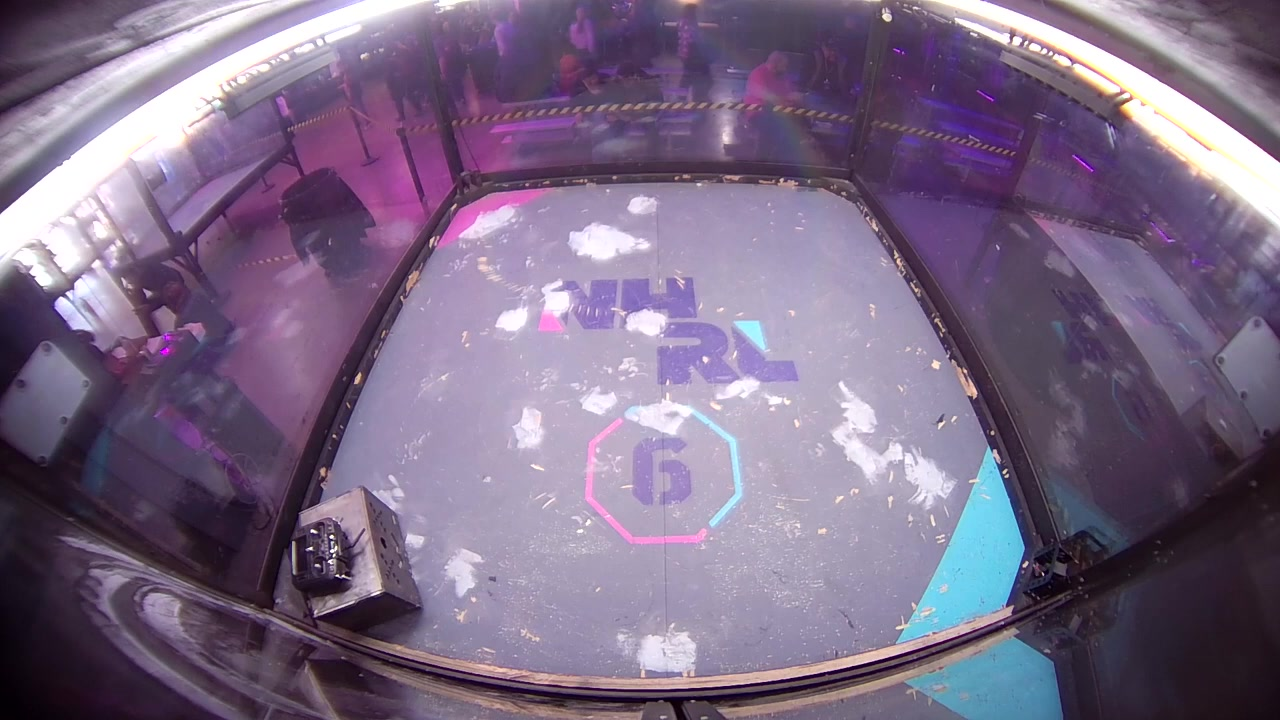housebot: (297, 485, 422, 629)
